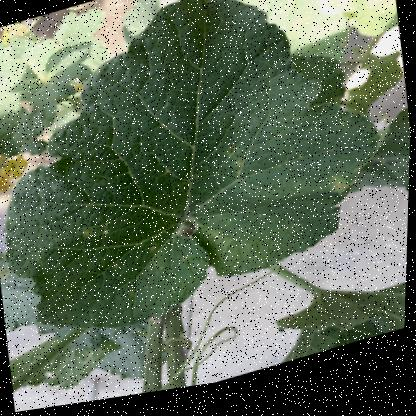Normal: (21, 81, 344, 324), (109, 25, 292, 210)
